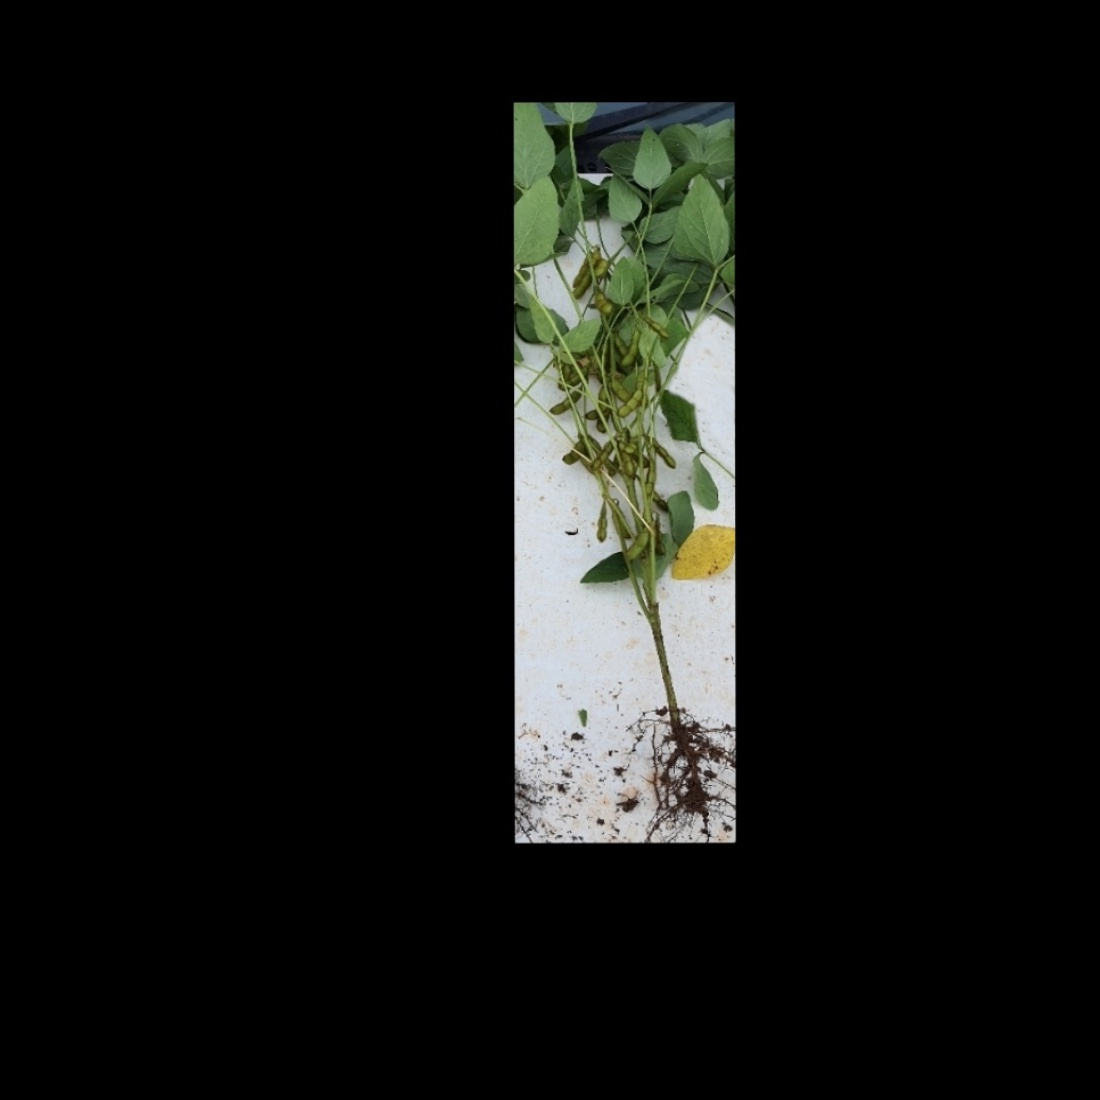pod: (649, 438, 682, 473), (547, 386, 583, 418), (638, 314, 673, 339), (618, 330, 642, 369), (614, 388, 643, 419), (589, 503, 610, 543), (590, 438, 612, 470), (594, 288, 615, 317), (571, 274, 593, 301), (651, 493, 670, 515), (592, 256, 610, 278)
soy: (524, 122, 724, 813)
